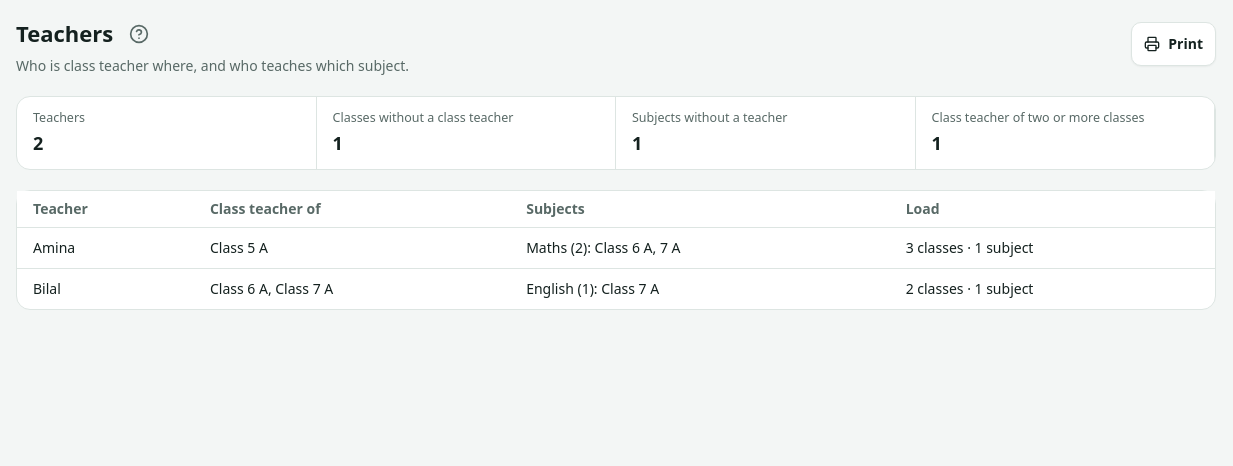
Test: Teachers page › shows the warning counts, each linking to the rows concerned
The image size is (1233, 466).
Click the link "Classes without a class teacher 1" at (423,118), box x1=332 y1=109 x2=514 y2=154
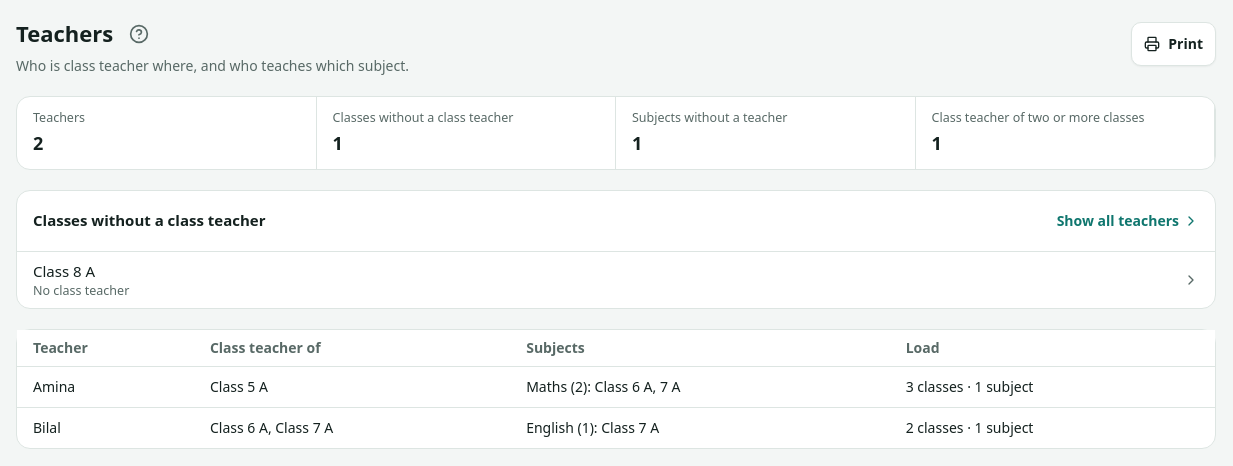
Click the link "Subjects without a teacher 1" at (710,118), box x1=632 y1=109 x2=787 y2=154
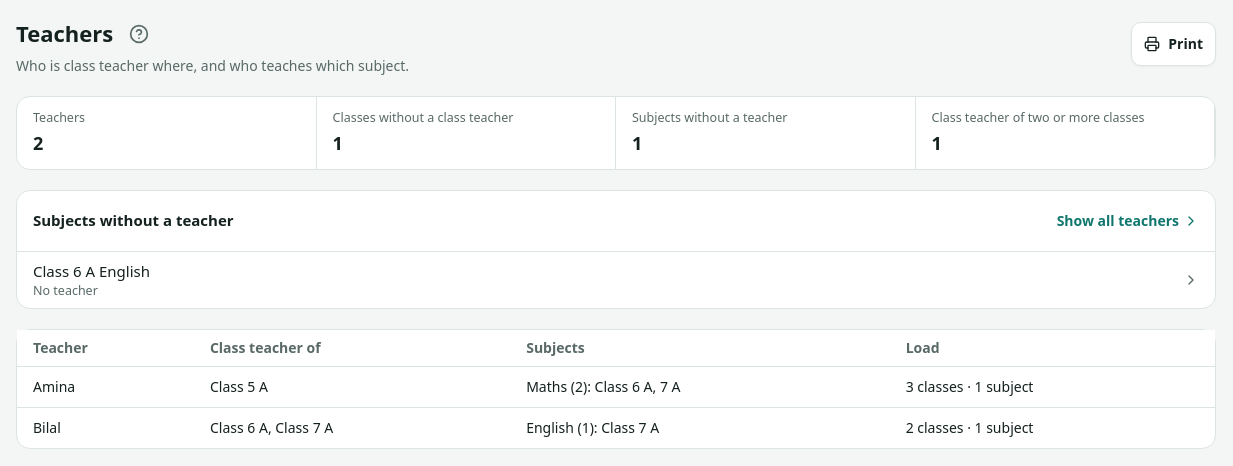
Check: the link "Class 6 A  English No teacher" is shown, box x1=17 y1=252 x2=1215 y2=308
# Class teacher of two or more classes: the table narrows to those teachers.
Click the link "Class teacher of two or more classes 1" at (1038,118), box x1=932 y1=109 x2=1145 y2=154
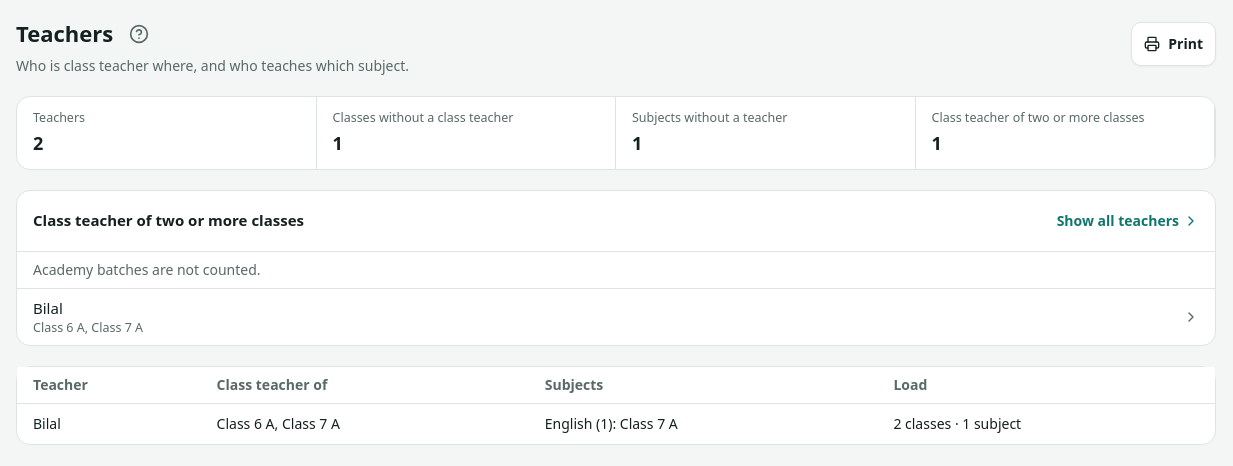
Check: the row "Bilal" is shown, box x1=17 y1=404 x2=1215 y2=444
Check: the element "Class teacher of two or more classes" shows "Academy batches are not counted.", box x1=33 y1=260 x2=260 y2=278
Check: the link "Amina" is gone
Click the link "Show all teachers" at (1128,220), box x1=1057 y1=210 x2=1199 y2=230
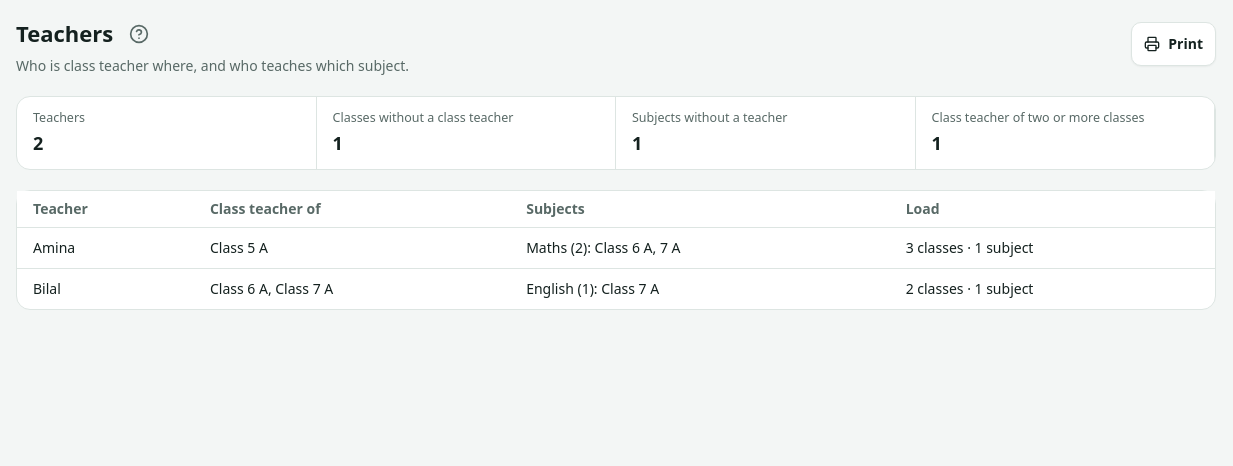
Check: the row "Amina" is shown, box x1=17 y1=228 x2=1215 y2=268
